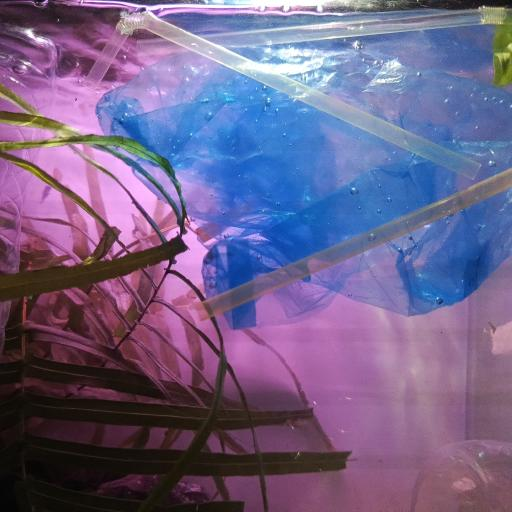plastic_bottle: (0, 32, 58, 348), (414, 432, 512, 512)
plastic_straw: (84, 0, 483, 180), (194, 166, 512, 316), (134, 6, 512, 57)
